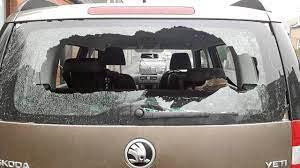Rear-windscreen-Damage: (9, 7, 286, 148)
